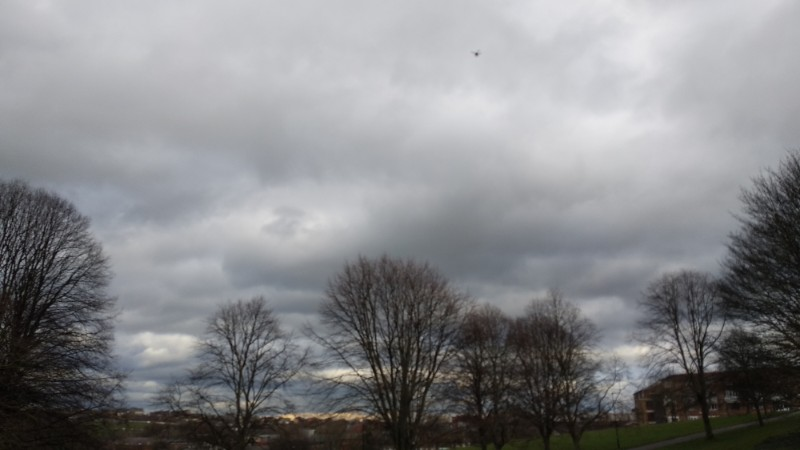drone: (473, 49, 481, 56)
